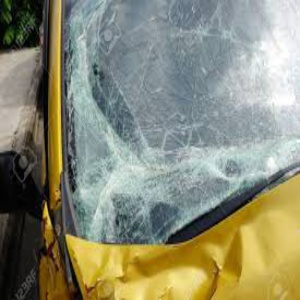front_windshield_glass: (53, 3, 299, 231)
